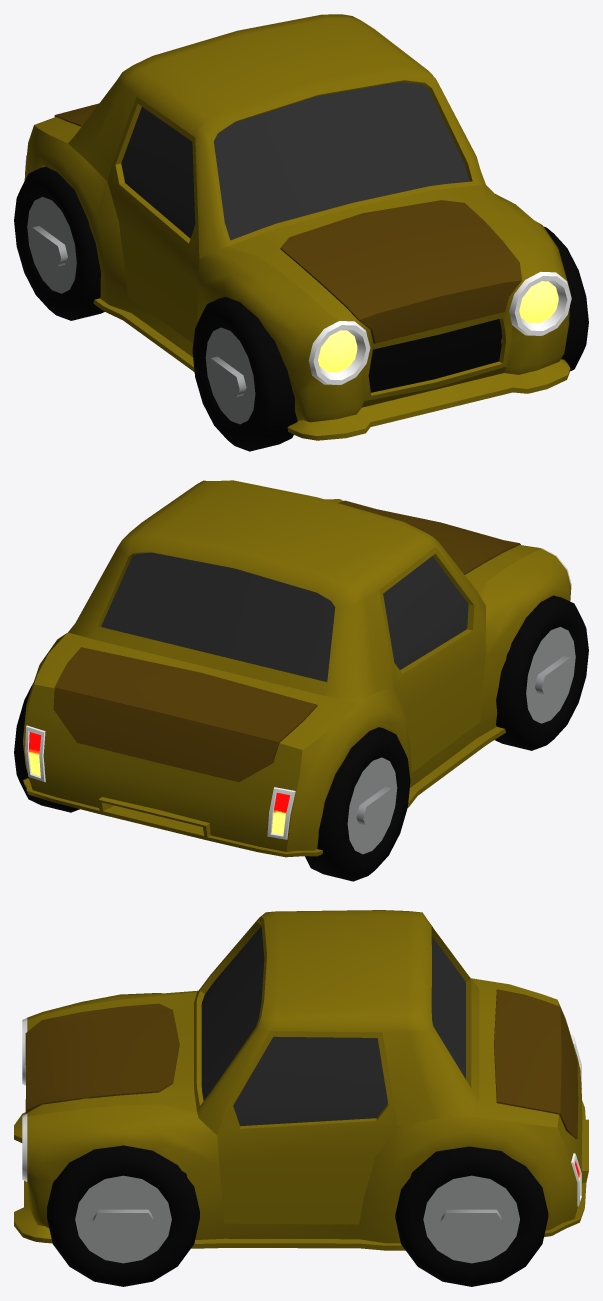
Rendered from MiniCar.fbx.
3 views of the same model, one above another, from view 1: azimuth 30°, elevation 25°; view 2: azimuth 150°, elevation 25°; view 3: azimuth 270°, elevation 25° (orthographic). The views are drawn at different scales.
Visible parts, largest first — view 1: MiniCar.002, G-Wheels.009, G-Wheels.012, G-Wheels.010; view 2: MiniCar.002, G-Wheels.009, G-Wheels.012, G-Wheels.011; view 3: MiniCar.002, G-Wheels.010, G-Wheels.011.
Part boxes in pixels (left/top/right/bottom): MiniCar.002: left=24, top=14, right=571, bottom=440; G-Wheels.009: left=192, top=297, right=297, bottom=451; G-Wheels.012: left=14, top=166, right=104, bottom=320; G-Wheels.010: left=544, top=226, right=588, bottom=371; MiniCar.002: left=23, top=480, right=571, bottom=857; G-Wheels.009: left=495, top=595, right=588, bottom=750; G-Wheels.012: left=305, top=727, right=410, bottom=881; G-Wheels.011: left=14, top=684, right=79, bottom=812; MiniCar.002: left=14, top=910, right=588, bottom=1250; G-Wheels.010: left=47, top=1145, right=199, bottom=1286; G-Wheels.011: left=395, top=1146, right=548, bottom=1286.
Size of the model in its own units: 6.96 by 5.33 by 10.64.
1 material, 1 textured.
